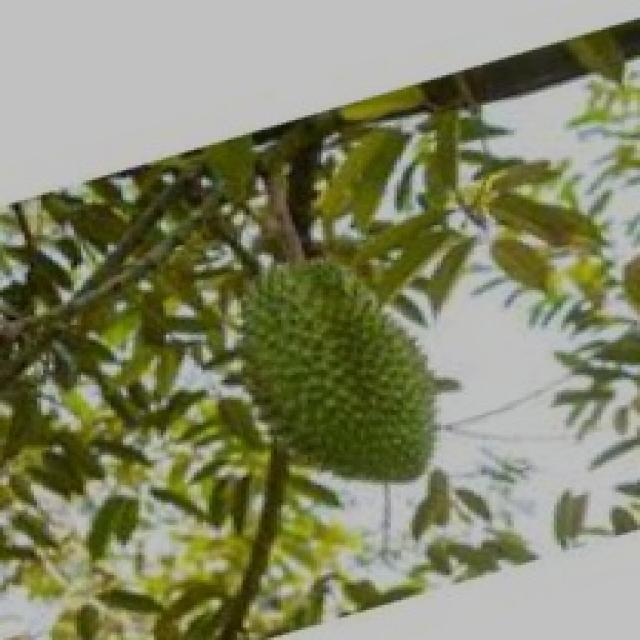fruit: (203, 228, 468, 510)
